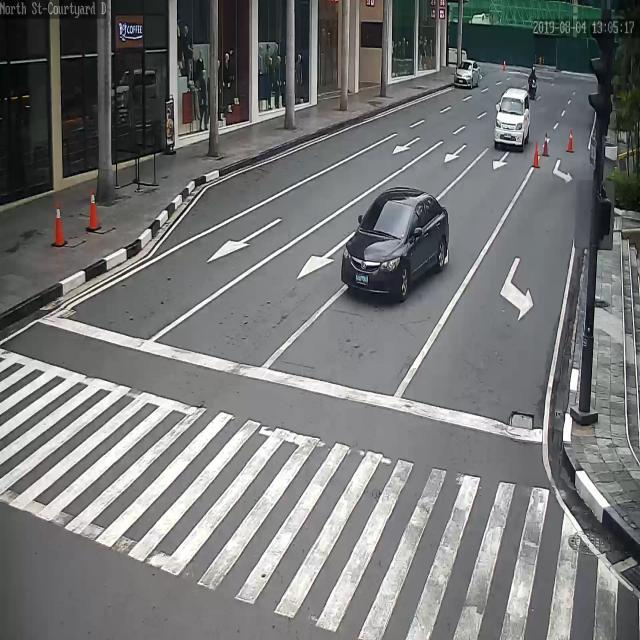car: (340, 187, 453, 301), (493, 89, 533, 148), (453, 62, 480, 89)
jeepney: (528, 65, 538, 100)
